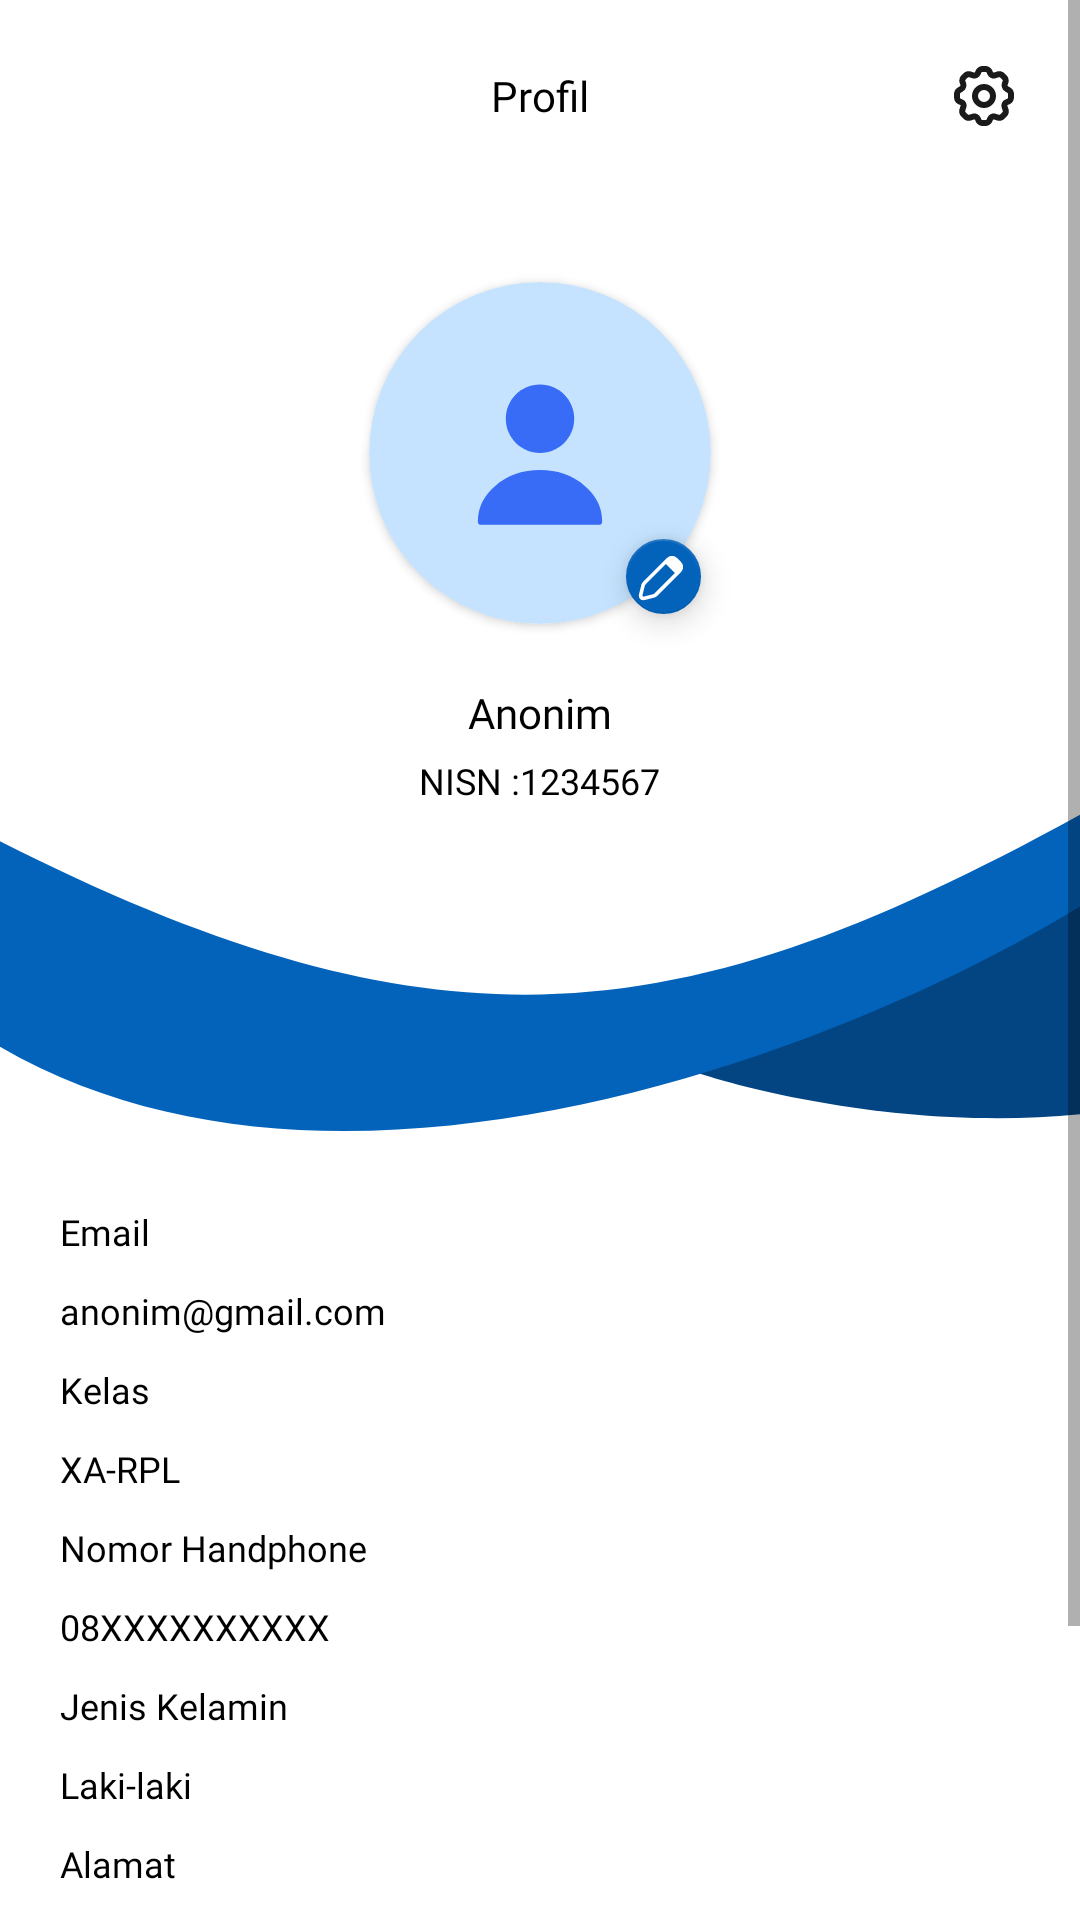

Icons on this 1080w x 1920h Android screen, each with its box as (x1=x1, y1=y1, x2=x2, y2=y2):
gear: (x1=954, y1=66, x2=1014, y2=126)
